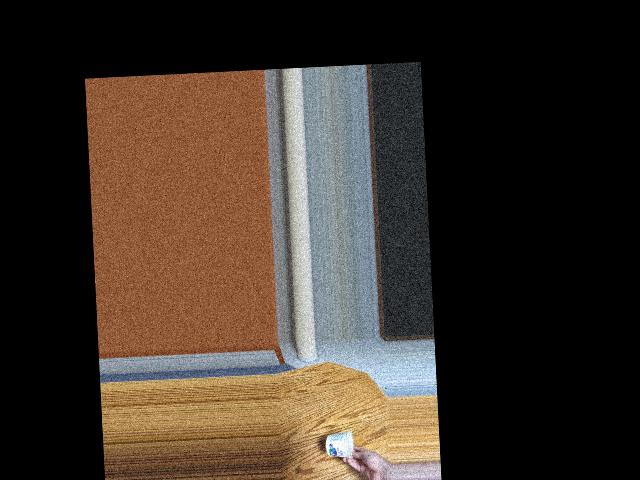cotage: (326, 427, 355, 461)
